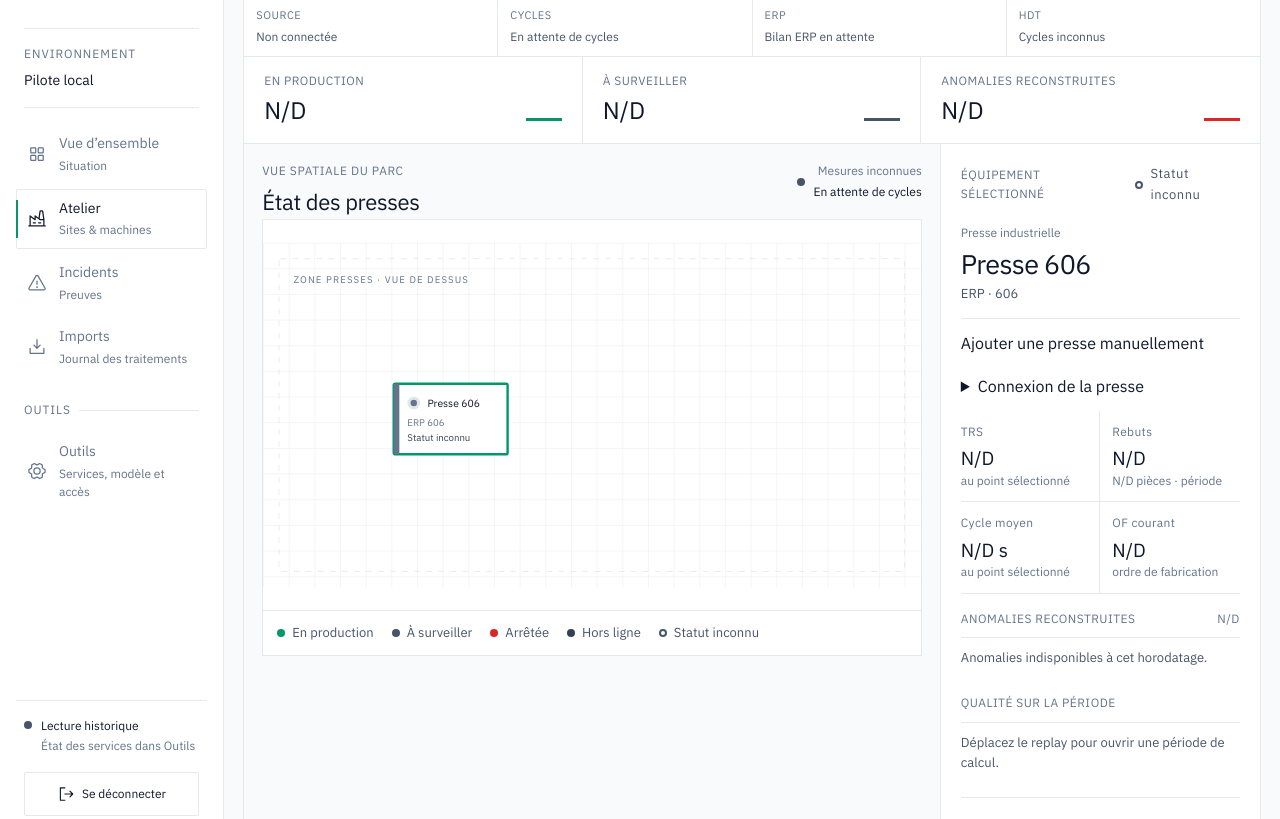
Test: réserve la configuration aux superviseurs et administrateurs
(page scrolled)
Click the heading "Connexion de la presse" at (1061, 386), box x1=978 y1=376 x2=1144 y2=396
(page scrolled)
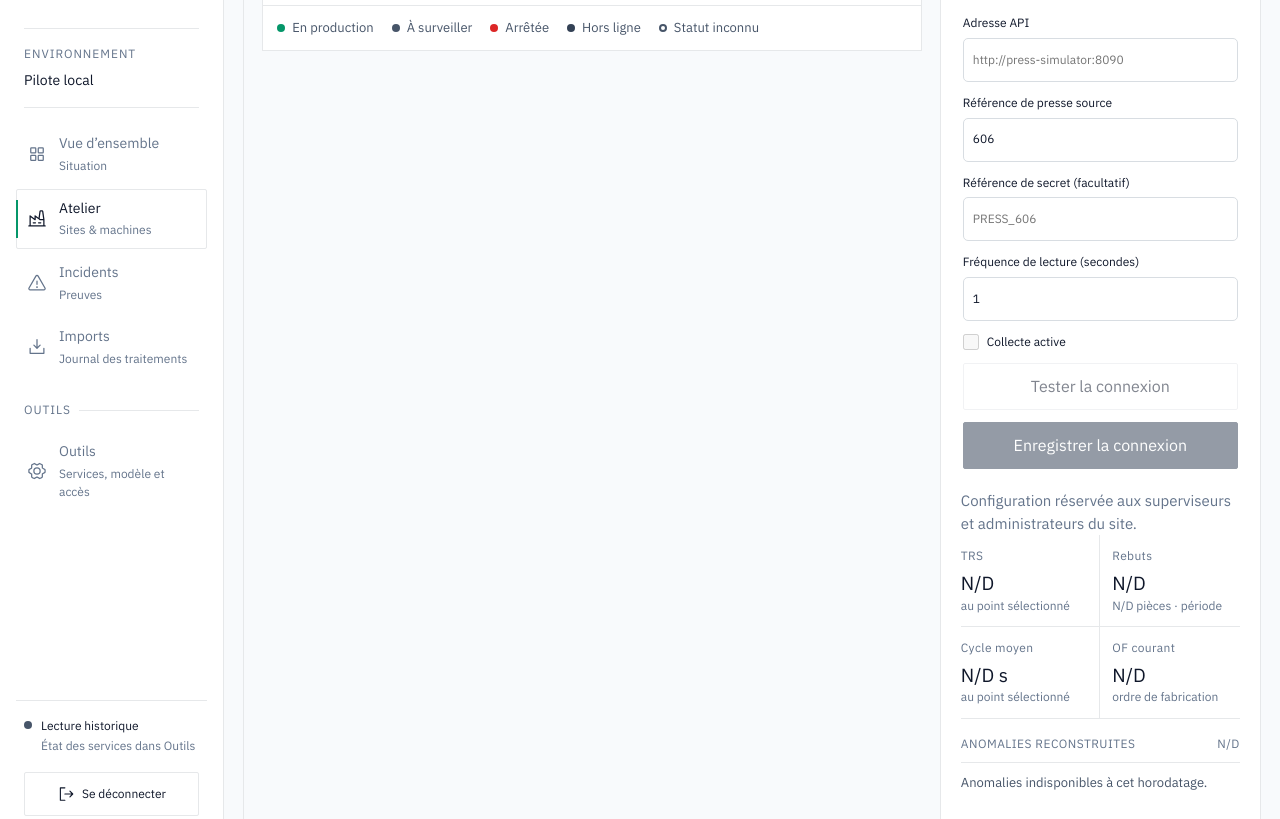
Expected: the field labelled "Adresse API" is disabled, x1=963 y1=38 x2=1238 y2=82
Expected: the button "Tester la connexion" is disabled, x1=963 y1=363 x2=1238 y2=410
